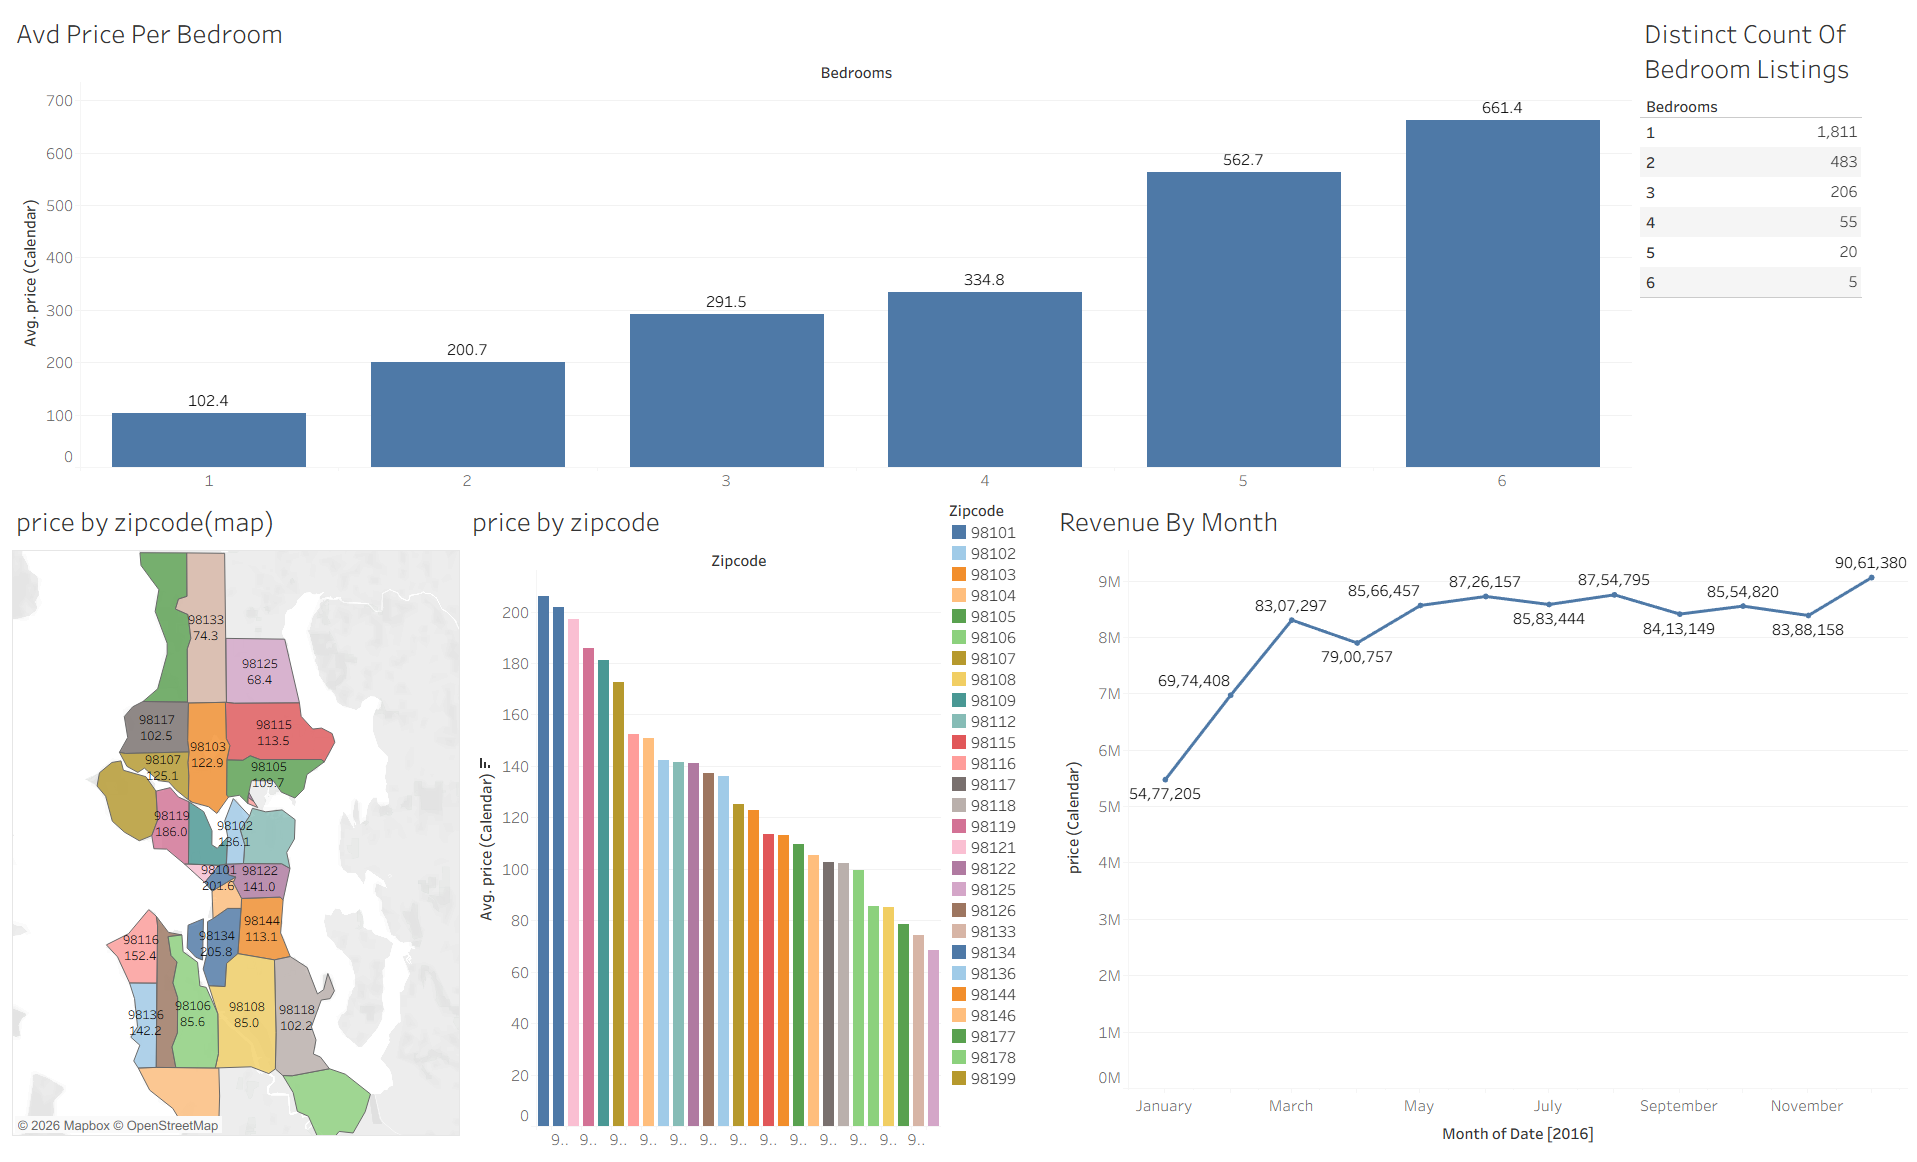

What the dashboard file says about the page in this screenshot:
{"tool":"tableau","page":{"name":"Dashboard 1","canvas":[1000,1000],"units":"permille","ordinal":0},"visuals":[{"type":"worksheet","title":"Sheet 4","mark":"Automatic","rows":["price (Calendar)"],"cols":["bedrooms"],"box":[4.8,7.8,846.7,419]},{"type":"worksheet","title":"Sheet 5","mark":"Automatic","rows":["bedrooms"],"box":[851.5,7.8,143.6,419]},{"type":"worksheet","title":"Sheet 2","mark":"Multipolygon","box":[4.8,426.8,232.9,565.5]},{"type":"worksheet","title":"Sheet 1","mark":"Automatic","rows":["price (Calendar)"],"cols":["zipcode"],"box":[237.8,426.8,245.6,565.5]},{"type":"legend","title":"Sheet 1","param":"[federated.0cfhtct033g4d014h554u0hedytg].[none:zipcode:ok]","box":[483.4,426.8,64,565.5]},{"type":"worksheet","title":"Sheet 3","mark":"Automatic","rows":["price (Calendar)"],"cols":["date"],"box":[547.4,426.8,447.8,565.5]}]}

Visuals, with their boxes on the dashboard's canvas, which has no fixed pixel size, in thousandths of its width and height (x1, y1, x2, y2). These are canvas units, not pixel positions in the 1917x1162 screenshot, which may show the page scaled, cropped or inside an application window:
"Sheet 4" worksheet: bbox(5, 8, 852, 427)
"Sheet 5" worksheet: bbox(852, 8, 995, 427)
"Sheet 2" worksheet (Multipolygon marks): bbox(5, 427, 238, 992)
"Sheet 1" worksheet: bbox(238, 427, 483, 992)
"Sheet 1" legend: bbox(483, 427, 547, 992)
"Sheet 3" worksheet: bbox(547, 427, 995, 992)
